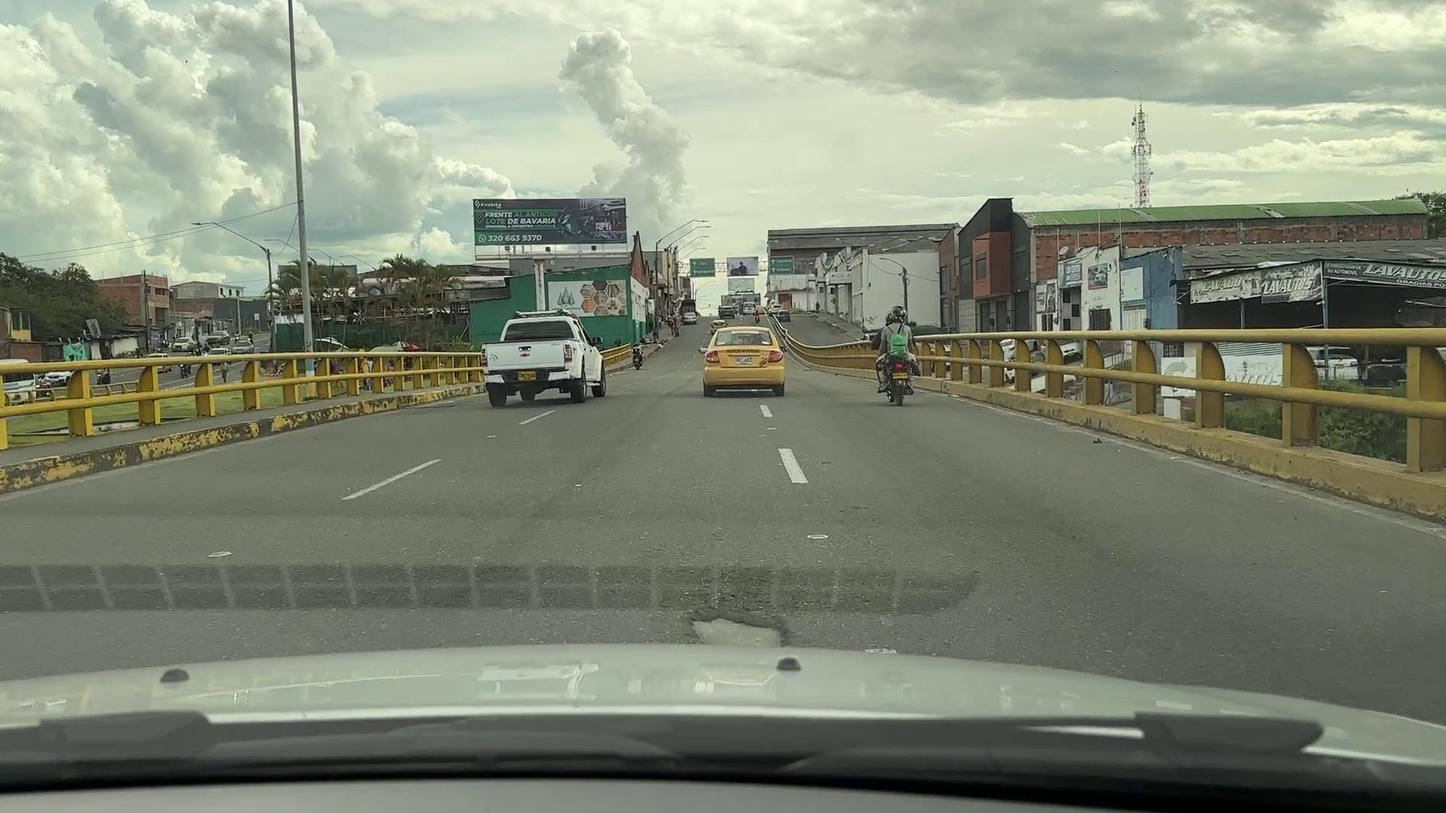bache: (693, 617, 782, 647)
